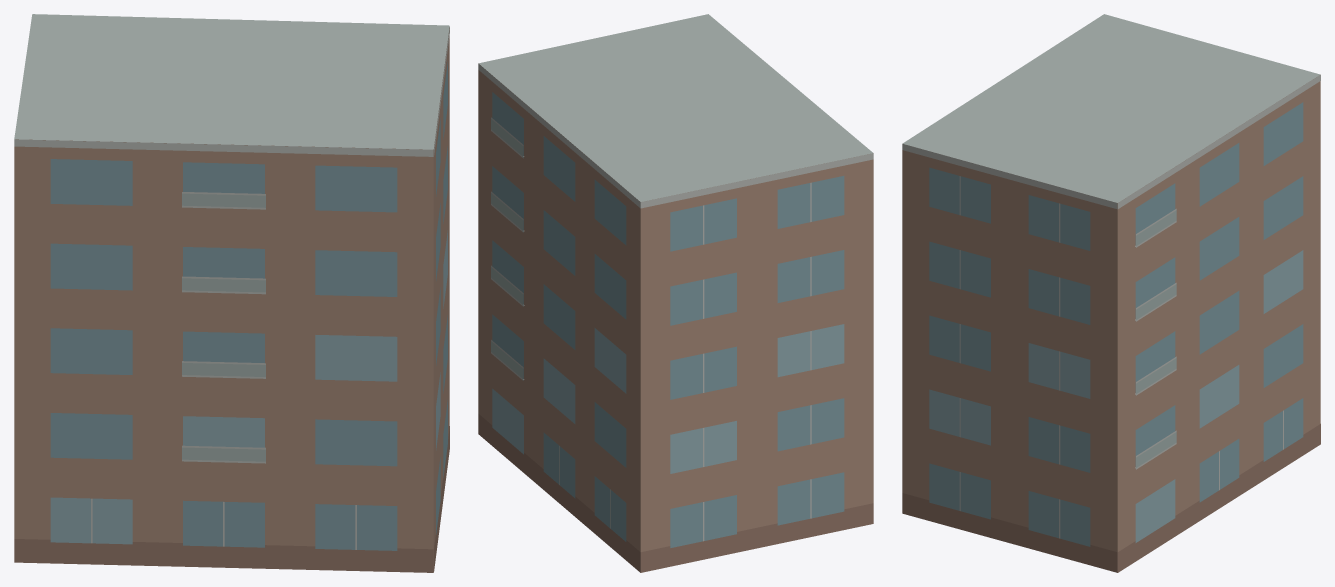
Rendered from survey-upis-32958791.glb.
The picture shows the model from 3 angles, left to right: view 1: azimuth 30°, elevation 25°; view 2: azimuth 150°, elevation 25°; view 3: azimuth 270°, elevation 25°; orthographic projection. The views are drawn at different scales.
Visible parts, largest first — view 1: survey-upis-32958791.tmp; view 2: survey-upis-32958791.tmp; view 3: survey-upis-32958791.tmp.
Part boxes in pixels (x1,y1,x2,y2): survey-upis-32958791.tmp: [14, 14, 449, 572]; survey-upis-32958791.tmp: [478, 14, 873, 572]; survey-upis-32958791.tmp: [902, 14, 1320, 572].
Bounding box in the file's own units: 15.69 × 14.3 × 14.67.
